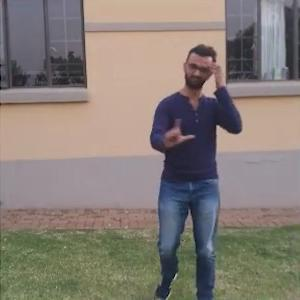land_hand: (160, 111, 194, 148)
